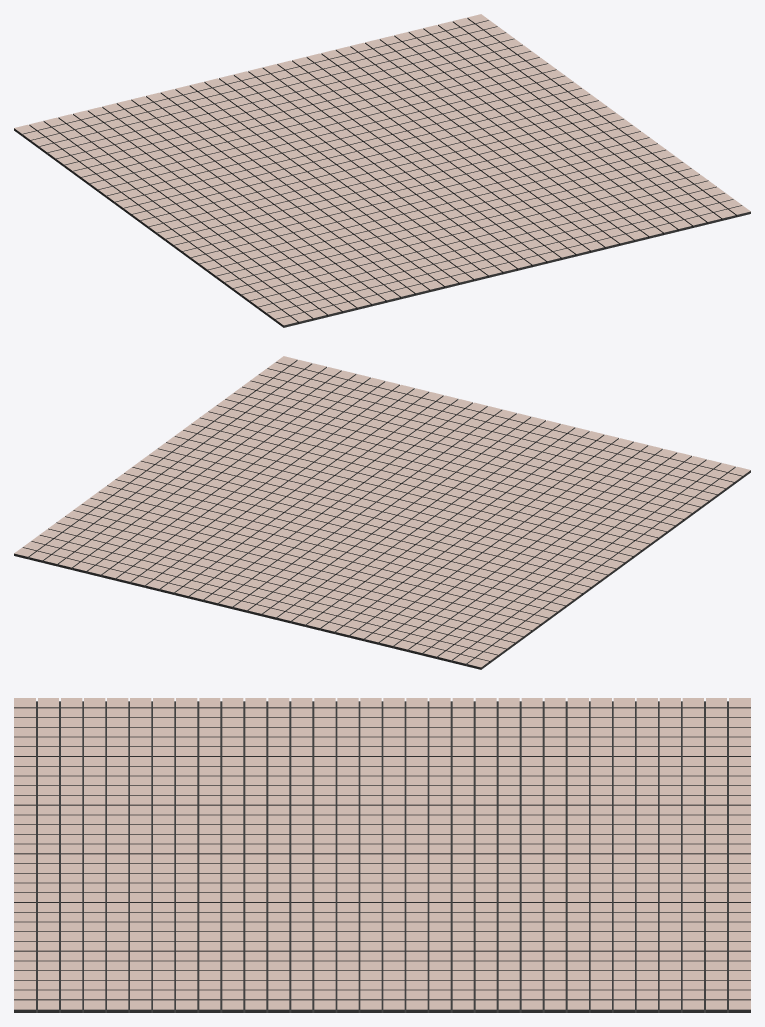
The model's file is Floor.fbx.
The picture shows the model from 3 angles, top to bottom: view 1: azimuth 30°, elevation 25°; view 2: azimuth 150°, elevation 25°; view 3: azimuth 270°, elevation 25°; orthographic projection. The views are drawn at different scales.
Visible parts, largest first — view 1: Floor; view 2: Floor; view 3: Floor.
Boxes of the visible parts, bbox=[...] form: Floor: bbox=[14, 14, 750, 327]; Floor: bbox=[14, 356, 750, 669]; Floor: bbox=[14, 698, 750, 1012].
Bounding box in the file's own units: 40 × 0.2 × 40.
